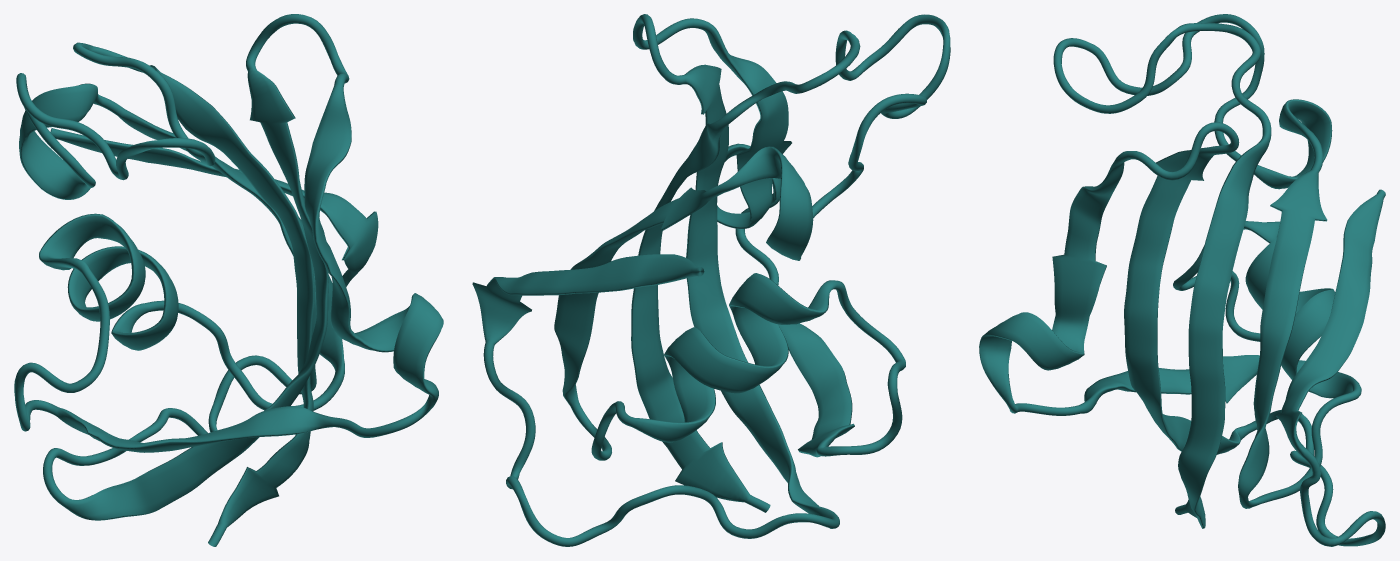
The picture shows the model from 3 angles, left to right: view 1: azimuth 30°, elevation 25°; view 2: azimuth 150°, elevation 25°; view 3: azimuth 270°, elevation 25°; orthographic projection. The views are drawn at different scales.
Parts seen in each view (by area): view 1: vmd_mol0_rep0; view 2: vmd_mol0_rep0; view 3: vmd_mol0_rep0.
Boxes of the visible parts, left/top/right/bottom form: vmd_mol0_rep0: left=14, top=14, right=443, bottom=546; vmd_mol0_rep0: left=472, top=14, right=950, bottom=546; vmd_mol0_rep0: left=979, top=14, right=1385, bottom=546.
Size of the model in its own units: 1.12 by 1.34 by 1.1.
